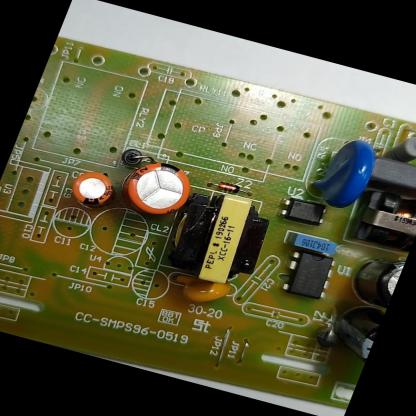Cap1: (115, 154, 198, 220)
Cap2: (65, 167, 118, 210)
Cap3: (341, 247, 406, 311)
Cap4: (320, 298, 386, 369)
MOSFET: (278, 246, 338, 302)
Mov: (301, 131, 384, 214)
Resistor: (384, 130, 416, 168)
Transformer: (161, 184, 282, 292), (347, 183, 416, 253)
